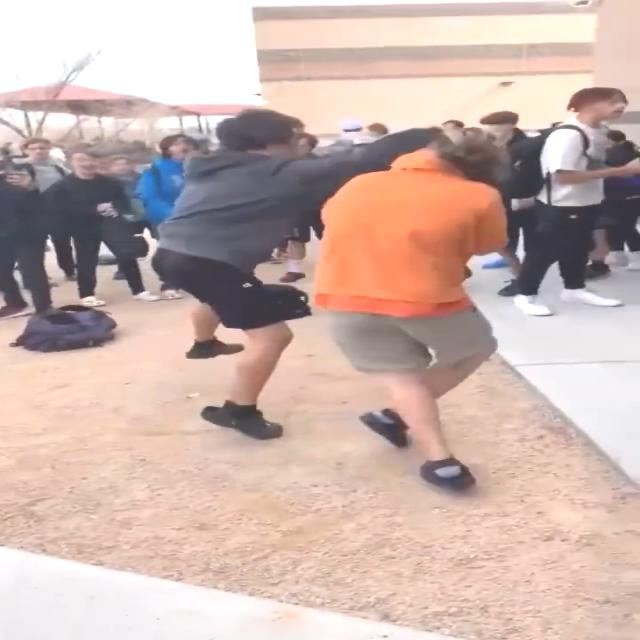fight: (164, 108, 510, 496)
